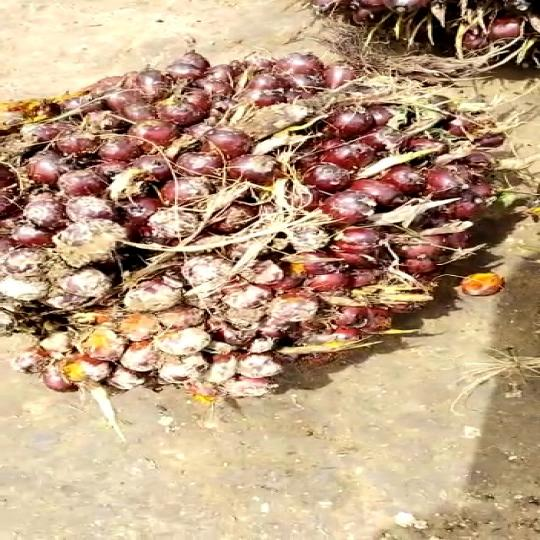kurang masak: (0, 38, 538, 406)
